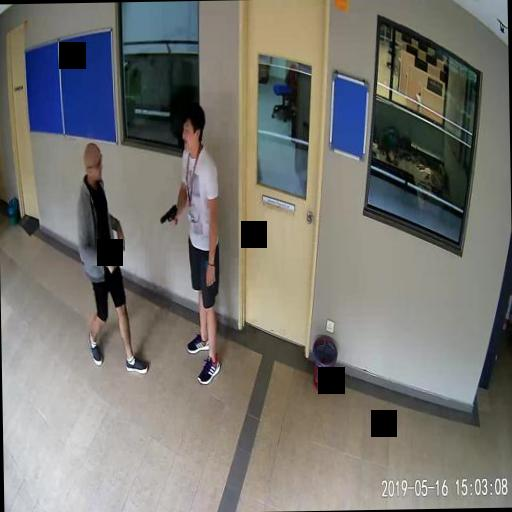Handgun: (159, 202, 176, 226)
